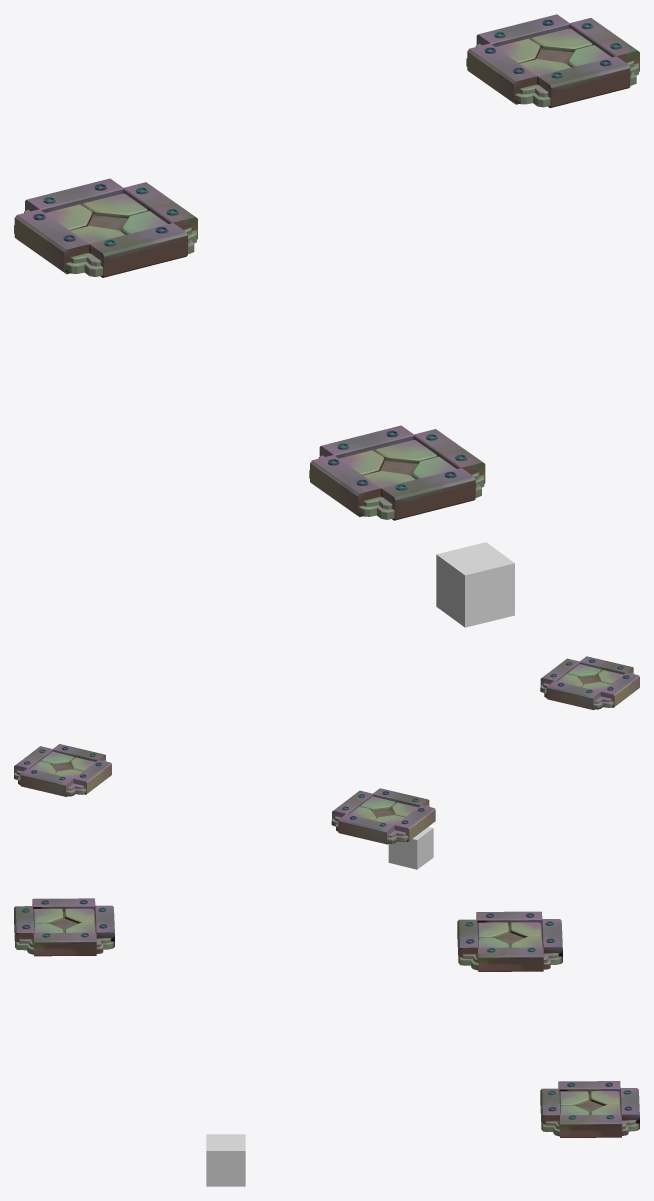
File: battlescence-3-floor006.fbx
3 views of the same model, one above another, from view 1: azimuth 30°, elevation 25°; view 2: azimuth 150°, elevation 25°; view 3: azimuth 270°, elevation 25° (orthographic). The views are drawn at different scales.
Parts seen in each view (by area): view 1: Circle.006, Circle.007, Circle.005, battlescence-3-floor006; view 2: Circle.006, Circle.007, Circle.005, battlescence-3-floor006; view 3: Circle.006, Circle.007, Circle.005, battlescence-3-floor006.
Part boxes in pixels (x1,y1,x2,y2): Circle.006: (14, 178, 197, 277); Circle.007: (309, 425, 485, 520); Circle.005: (466, 14, 639, 107); battlescence-3-floor006: (436, 542, 514, 627); Circle.006: (331, 788, 435, 844); Circle.007: (540, 656, 639, 710); Circle.005: (14, 744, 111, 796); battlescence-3-floor006: (388, 827, 433, 869); Circle.006: (457, 911, 562, 971); Circle.007: (14, 898, 114, 956); Circle.005: (540, 1081, 639, 1137); battlescence-3-floor006: (206, 1134, 245, 1186).
Size of the model in its own units: 1754 by 715 by 2080.
